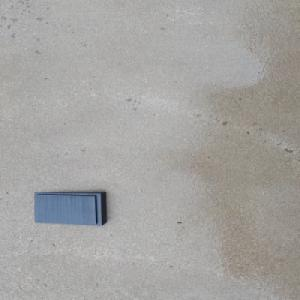PlasticPart: (32, 190, 108, 226)
